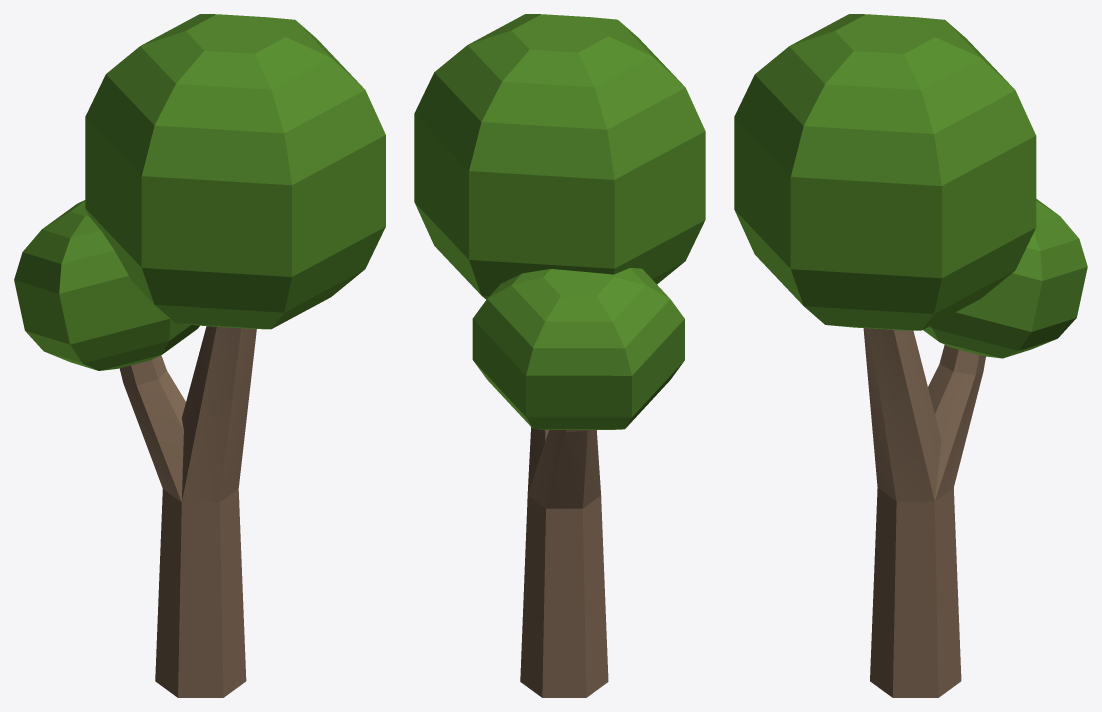
File: Hilly_Prop_Tree_Oak_1.fbx
3 views of the same model, side by side, from view 1: azimuth 30°, elevation 25°; view 2: azimuth 150°, elevation 25°; view 3: azimuth 270°, elevation 25° (orthographic). The views are drawn at different scales.
Visible parts, largest first — view 1: object2, object1, object3; view 2: object2, object3, object1; view 3: object2, object1, object3.
Boxes of the visible parts, x1,y1,x2,y2 form: object2: [85, 14, 385, 329]; object1: [119, 326, 256, 697]; object3: [14, 200, 199, 370]; object2: [414, 14, 705, 299]; object3: [472, 268, 684, 429]; object1: [520, 427, 608, 697]; object2: [734, 14, 1036, 330]; object1: [863, 328, 985, 697]; object3: [923, 199, 1087, 358].
Bounding box in the file's own units: 2.09 × 4.75 × 2.32.
